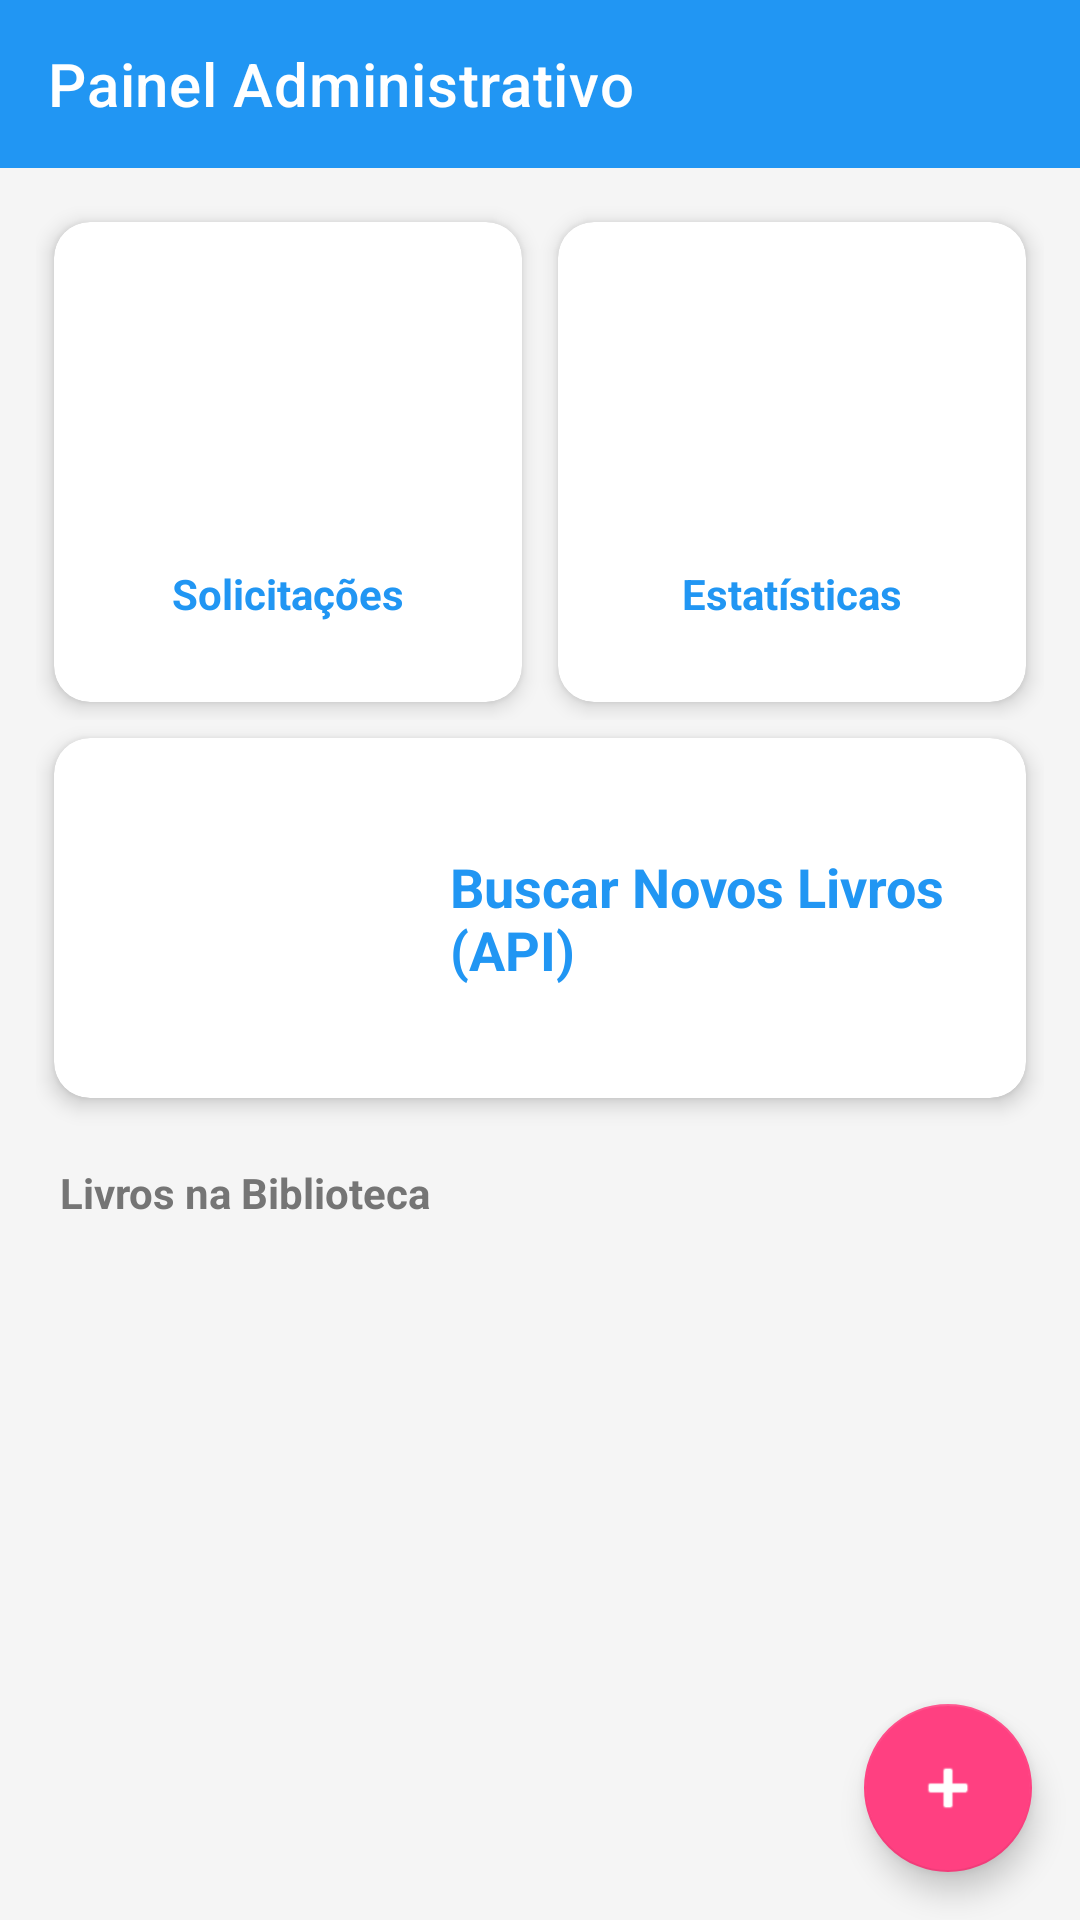

Named icons in this screenshot (1080 x 1920) and their centers, [x,y]:
Adicionar Livro: [948,1788]
